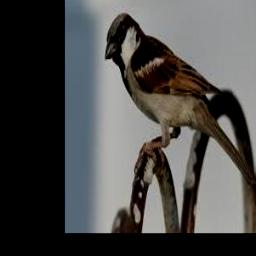Sparrow: (105, 14, 256, 189)
